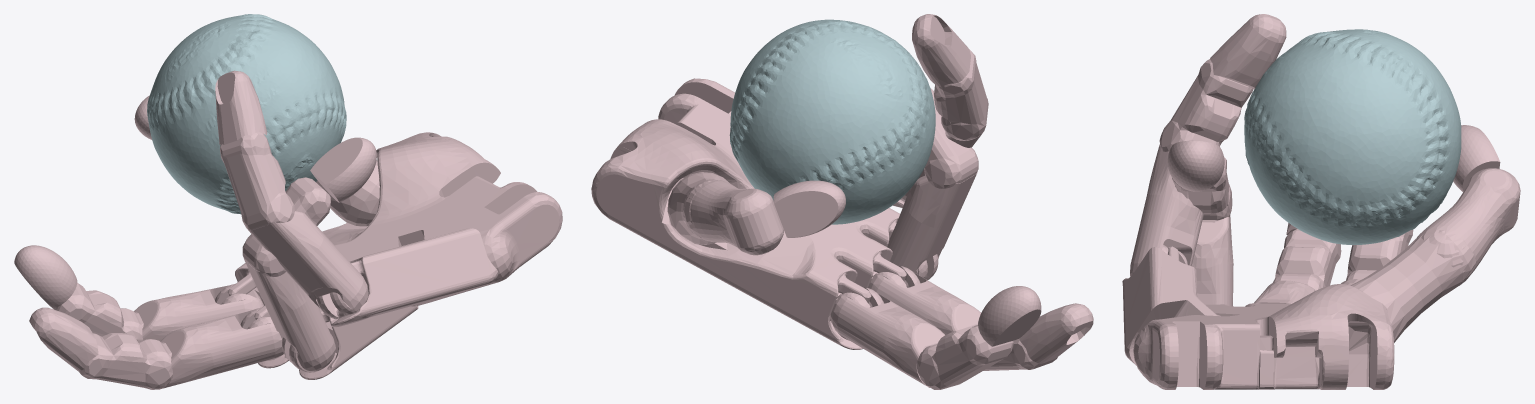
File: grasp_7.glb
The picture shows the model from 3 angles, left to right: view 1: azimuth 30°, elevation 25°; view 2: azimuth 150°, elevation 25°; view 3: azimuth 270°, elevation 25°; orthographic projection. The views are drawn at different scales.
Visible parts, largest first — view 1: world; view 2: world; view 3: world.
Part boxes in pixels (x1,y1,x2,y2): world: (14, 14, 562, 389); world: (591, 14, 1093, 389); world: (1122, 14, 1520, 389).
Size of the model in its own units: 0.1981 by 0.1283 by 0.1331.
